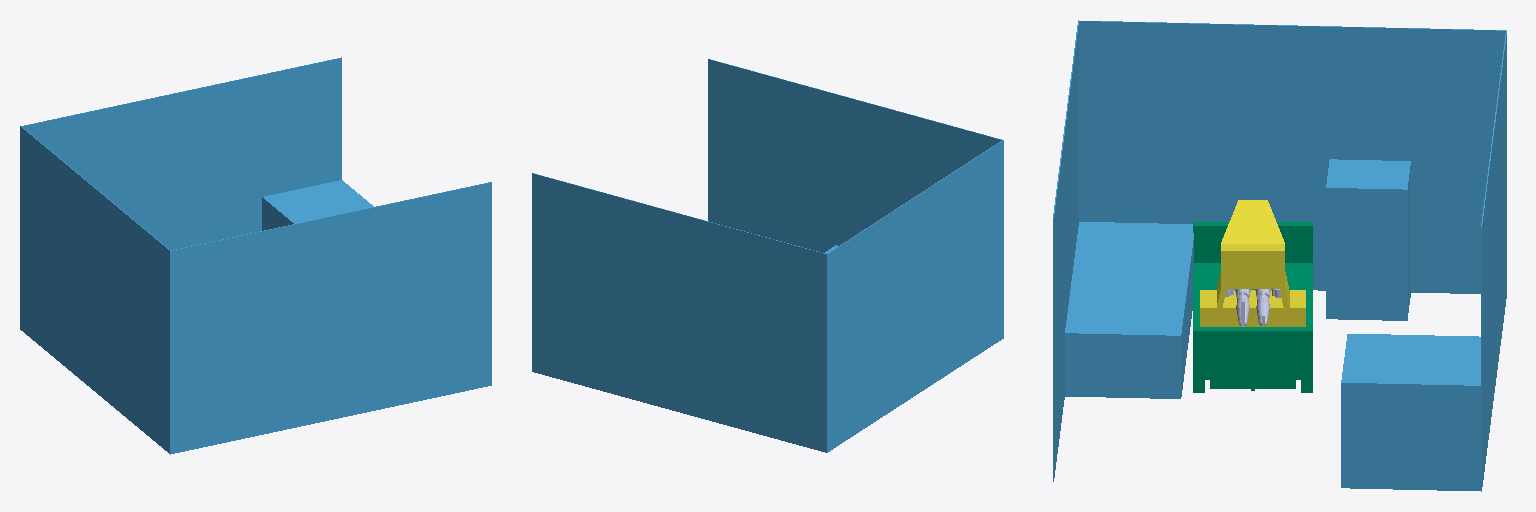
--- Facts derived from the render (not from the file) ---
The picture shows the robot from 3 angles, left to right: view 1: azimuth 30°, elevation 25°; view 2: azimuth 150°, elevation 25°; view 3: azimuth 270°, elevation 25°; orthographic projection.
Model bed_and_environment_henry_tray with 33 links and 32 joints (25 revolute, 4 prismatic, 3 fixed), rooted at autobed/base_link, posed every joint at zero.
Links seen in each view (by area): view 1: autobed/wall_link; view 2: autobed/wall_link; view 3: autobed/wall_link, autobed/bed_frame_link, autobed/leg_rest_upper.
Boxes of the visible links, x1,y1,x2,y2 form: autobed/wall_link: (20,57,491,454); autobed/wall_link: (532,59,1003,452); autobed/wall_link: (1053,20,1506,491); autobed/bed_frame_link: (1193,222,1312,392); autobed/leg_rest_upper: (1200,200,1305,326).
Size in the robot's own frame: 4.2 by 3.9 by 2.5 metres.
Meshes: 23 distinct files referenced, 18 mesh visuals loaded (18 binary STL); not drawn: 5 (reference not matched to a file when rendering).

robot.urdf — bed_and_environment_henry_tray:
<?xml version="1.0"?>
<robot
  name="bed_and_environment_henry_tray">
  <link
   name="autobed/base_link">
    <inertial>
      <origin
        xyz="1.07 3.94840580504828E-16 0.0837923121940762"
        rpy="0 0 0" />
      <mass
        value="6.1860172808288" />
      <inertia
        ixx="1.21978721906848"
        ixy="2.22044604925031E-15"
        ixz="-1.78284289885571E-15"
        iyy="7.15036992783298"
        iyz="-7.76907347784197E-16"
        izz="8.24641740321532" />
    </inertial>
    <visual>
      <origin
        xyz="0 0 0"
        rpy="0 0 0" />
      <geometry>
        <mesh
          filename="package://hrl_base_selection/urdf/bed_and_environment_henry_tray/meshes/base_link.STL" />
      </geometry>
    </visual>
    <collision>
      <origin
        xyz="0 0 0"
        rpy="0 0 0" />
      <geometry>
        <mesh
          filename="package://hrl_base_selection/urdf/bed_and_environment_henry_tray/meshes/base_link.STL" />
      </geometry>
    </collision>
  </link>
    <link
   name="autobed/wall_link">
    <inertial>
      <origin
        xyz="1.85973617610096 0.322876413955559 0.506156564666783"
        rpy="0 0 0" />
      <mass
        value="3480.34879229199" />
      <inertia
        ixx="6193.4907032472"
        ixy="3253.06972401852"
        ixz="-11.5632809249146"
        iyy="7114.12294656335"
        iyz="386.100445501856"
        izz="12101.3286461396" />
    </inertial>
    <visual>
      <origin
        xyz="0 0 0"
        rpy="0 0 0" />
      <geometry>
        <mesh
          filename="package://hrl_base_selection/urdf/bed_and_environment_henry_tray/meshes/wall_link.STL" />
      </geometry>
    </visual>
    <collision>
      <origin
        xyz="0 0 0"
        rpy="0 0 0" />
      <geometry>
        <mesh
          filename="package://hrl_base_selection/urdf/bed_and_environment_henry_tray/meshes/wall_link.STL" />
      </geometry>
    </collision>
  </link>
  <joint
   name="autobed/origin_wall_joint"
    type="fixed">
    <origin
      xyz="-0.12155 -0.0043316 0"
      rpy="0 0 -0.053897" />
    <parent
      link="autobed/base_link" />
    <child
      link="autobed/wall_link" />
    <axis
      xyz="0 0 0" />
  </joint>
  <link
   name="autobed/bed_frame_link">
    <inertial>
      <origin
        xyz="1.20574977089702 -0.00197319632794563 0.010463658046454"
        rpy="0 0 0" />
      <mass
        value="298.525793737685" />
      <inertia
        ixx="25.3079805393988"
        ixy="0.124705215046845"
        ixz="-6.18752707469867"
        iyy="161.196265779885"
        iyz="0.0978345240222597"
        izz="178.196491872743" />
    </inertial>
    <visual>
      <origin
        xyz="0 0 0"
        rpy="0 0 0" />
      <geometry>
        <mesh
          filename="package://hrl_base_selection/urdf/bed_and_environment_henry_tray/meshes/bed_frame_expanded_link.STL" />
      </geometry>
    </visual>
    <collision>
      <origin
        xyz="0 0 0"
        rpy="0 0 0" />
      <geometry>
        <mesh
          filename="package://hrl_base_selection/urdf/bed_and_environment_henry_tray/meshes/bed_frame_expanded_link.STL" />
      </geometry>
    </collision>
  </link>
  <joint
   name="autobed/tele_legs_joint"
    type="prismatic">
    <origin
      xyz="-0.0400000000000005 0 0.320000000000001"
      rpy="0 0 0" />
    <parent
      link="autobed/base_link" />
    <child
      link="autobed/bed_frame_link" />
    <axis
      xyz="0 0 1" />
    <limit
      lower="-1"
      upper="1"
      effort="0"
      velocity="0" />
  </joint>
  <link
   name="autobed/leg_rest_upper">
    <inertial>
      <origin
        xyz="0.184999999999998 0.10500000000001 6.79804630482359E-16"
        rpy="0 0 0" />
      <mass
        value="71.0955000000001" />
      <inertia
        ixx="5.22152012812501"
        ixy="-3.21389401302034E-17"
        ixz="-3.22023131917487E-17"
        iyy="5.77132532812501"
        iyz="-2.87322532068486E-15"
        izz="1.072357125" />
    </inertial>
    <visual>
      <origin
        xyz="0 0 0"
        rpy="0 0 0" />
      <geometry>
        <mesh
          filename="package://hrl_base_selection/urdf/bed_and_environment_henry_tray/meshes/leg_rest_upper.STL" />
      </geometry>
    </visual>
    <collision>
      <origin
        xyz="0 0 0"
        rpy="0 0 0" />
      <geometry>
        <mesh
          filename="package://hrl_base_selection/urdf/bed_and_environment_henry_tray/meshes/leg_rest_upper.STL" />
      </geometry>
    </collision>
  </link>
  <joint
   name="autobed/leg_rest_upper_hinge"
    type="revolute">
    <origin
      xyz="1.075 0 0"
      rpy="1.5708 -1.8438E-16 7.6543E-16" />
    <parent
      link="autobed/bed_frame_link" />
    <child
      link="autobed/leg_rest_upper" />
    <axis
      xyz="0 0 1" />
    <limit
      lower="-2"
      upper="2"
      effort="0"
      velocity="0" />
  </joint>
  <link
   name="autobed/leg_rest_lower">
    <inertial>
      <origin
        xyz="0.325000000000004 0.104999999999987 -1.38760699713425E-16"
        rpy="0 0 0" />
      <mass
        value="124.8975" />
      <inertia
        ixx="9.172940765625"
        ixy="-4.25925024767052E-17"
        ixz="-8.25969319809873E-16"
        iyy="13.111375265625"
        iyz="2.10674154540826E-16"
        izz="4.856431125" />
    </inertial>
    <visual>
      <origin
        xyz="0 0 0"
        rpy="0 0 0" />
      <geometry>
        <mesh
          filename="package://hrl_base_selection/urdf/bed_and_environment_henry_tray/meshes/leg_rest_lower.STL" />
      </geometry>
    </visual>
    <collision>
      <origin
        xyz="0 0 0"
        rpy="0 0 0" />
      <geometry>
        <mesh
          filename="package://hrl_base_selection/urdf/bed_and_environment_henry_tray/meshes/leg_rest_lower.STL" />
      </geometry>
    </collision>
  </link>
  <joint
   name="autobed/leg_rest_lower_hinge"
    type="revolute">
    <origin
      xyz="0.37 0 0"
      rpy="8.4655E-16 -2.4744E-16 -1.8316E-16" />
    <parent
      link="autobed/leg_rest_upper" />
    <child
      link="autobed/leg_rest_lower" />
    <axis
      xyz="0 0 -1" />
    <limit
      lower="-2"
      upper="2"
      effort="0"
      velocity="0" />
  </joint>
  <link
   name="autobed/head_rest_link">
    <inertial>
      <origin
        xyz="0.338540021639504 -0.102807900235519 0.0331726512276706"
        rpy="0 0 0" />
      <mass
        value="158.265573279578" />
      <inertia
        ixx="13.8116841883572"
        ixy="0.366851813056848"
        ixz="-0.640983438566653"
        iyy="18.5647228773414"
        iyz="-0.857921499431992"
        izz="7.19318513198363" />
    </inertial>
    <visual>
      <origin
        xyz="0 0 0"
        rpy="0 0 0" />
      <geometry>
        <mesh
          filename="package://hrl_base_selection/urdf/bed_and_environment_henry_tray/meshes/head_rest_link.STL" />
      </geometry>
    </visual>
    <collision>
      <origin
        xyz="0 0 0"
        rpy="0 0 0" />
      <geometry>
        <mesh
          filename="package://hrl_base_selection/urdf/bed_and_environment_henry_tray/meshes/head_rest_link.STL" />
      </geometry>
    </collision>
  </link>
  <joint
   name="autobed/head_rest_hinge"
    type="revolute">
    <origin
      xyz="0.795 0 0.21"
      rpy="1.5708 0 -3.1416" />
    <parent
      link="autobed/bed_frame_link" />
    <child
      link="autobed/head_rest_link" />
    <axis
      xyz="0 0 1" />
    <limit
      lower="-2"
      upper="2"
      effort="0"
      velocity="0" />
  </joint>
  <link
    name="autobed/neck_rotated_to_worldframe_link">
  </link>
  <joint
    name="autobed/headrest_bed_to_worldframe_joint"
    type="revolute">
    <origin
      xyz="0.25949 0.1 0"
      rpy="0. 0. 0." />
    <!--<origin-->
      <!--xyz="0.40949 0.05 0"-->
      <!--rpy="0. 0. 0." />-->
    <parent
      link="autobed/head_rest_link" />
    <child
      link="autobed/neck_rotated_to_worldframe_link" />
    <axis
      xyz="0 0 1" />
    <limit
      lower="-2"
      upper="2"
      effort="0"
      velocity="0" />
  </joint>
  <link
    name="autobed/neck_updown_worldframe_translation_link">
  </link>
  <joint
    name="autobed/bed_neck_worldframe_updown_joint"
    type="prismatic">
    <origin
      xyz="0.0 0.0 0"
      rpy="0.0 0.0 0.0" />
    <parent
      link="autobed/neck_rotated_to_worldframe_link" />
    <child
      link="autobed/neck_updown_worldframe_translation_link" />
    <axis
      xyz="-1 0 0" />
    <limit
      lower="-2"
      upper="2"
      effort="0"
      velocity="0" />
  </joint>
  <link
    name="autobed/neck_rotated_to_bedframe_link">
  </link>
  <joint
    name="autobed/bed_neck_to_bedframe_joint"
    type="revolute">
    <origin
      xyz="0.0 0.0 0"
      rpy="0. 0. 0." />
    <parent
      link="autobed/neck_updown_worldframe_translation_link" />
    <child
      link="autobed/neck_rotated_to_bedframe_link" />
    <axis
      xyz="0 0 1" />
    <limit
      lower="-2"
      upper="2"
      effort="0"
      velocity="0" />
  </joint>
  <link
    name="autobed/neck_updown_bedframe_translation_link">
  </link>
  <joint
    name="autobed/bed_neck_base_updown_bedframe_joint"
    type="prismatic">
    <origin
      xyz="0.0 0.0 0"
      rpy="0. 0. 0." />
    <parent
      link="autobed/neck_rotated_to_bedframe_link" />
    <child
      link="autobed/neck_updown_bedframe_translation_link" />
    <axis
      xyz="-1 0 0" />
    <limit
      lower="-2"
      upper="2"
      effort="0"
      velocity="0" />
  </joint>
  <link
    name="autobed/neck_base_link">
  </link>
  <joint
    name="autobed/bed_neck_base_leftright_joint"
    type="prismatic">
    <origin
      xyz="0 0 0"
      rpy="0 3.14159 0" />
    <parent
      link="autobed/neck_updown_bedframe_translation_link" />
    <child
      link="autobed/neck_base_link" />
    <axis
      xyz="0 0 -1" />
    <limit
      lower="-2"
      upper="2"
      effort="0"
      velocity="0" />
  </joint>
  <link
    name="autobed/neck_twist_link">
  </link>
  <joint
    name="autobed/neck_twist_joint"
    type="revolute">
    <origin
      xyz="0.0 0.0 0"
      rpy="0. 0. 0." />
    <parent
      link="autobed/neck_base_link" />
    <child
      link="autobed/neck_twist_link" />
    <axis
      xyz="1 0 0" />
    <limit
      lower="-2"
      upper="2"
      effort="0"
      velocity="0" />
  </joint>
  <link
    name="autobed/neck_tilt_link">
  </link>
  <joint
    name="autobed/neck_tilt_joint"
    type="revolute">
    <origin
      xyz="0.0 0.0 0"
      rpy="0. 0. 0." />
    <parent
      link="autobed/neck_twist_link" />
    <child
      link="autobed/neck_tilt_link" />
    <axis
      xyz="0 0 -1" />
    <limit
      lower="-2"
      upper="2"
      effort="0"
      velocity="0" />
  </joint>
  <link
    name="autobed/neck_link">
    <visual>
      <origin
        xyz="0 0 0"
        rpy="0 0 0" />
      <geometry>
        <mesh
          filename="package://hrl_base_selection/urdf/bed_and_environment_henry_tray/meshes/neck_link.STL" />
      </geometry>
      <material
        name="">
        <color
          rgba="0.792156862745098 0.819607843137255 0.933333333333333 1" />
      </material>
    </visual>
    <collision>
      <origin
        xyz="0 0 0"
        rpy="0 0 0" />
      <geometry>
        <mesh
          filename="package://hrl_base_selection/urdf/bed_and_environment_henry_tray/meshes/neck_link.STL" />
      </geometry>
    </collision>
  </link>
  <joint
    name="autobed/neck_to_neck_top_joint"
    type="fixed">
    <origin
      xyz="-0.07239 0 0"
      rpy="0 0 0" />
    <parent
      link="autobed/neck_tilt_link" />
    <child
      link="autobed/neck_link" />
  </joint>
  <link
    name="autobed/neck_top_rotated_link">
  </link>
  <joint
    name="autobed/neck_rotation_fixed_joint"
    type="fixed">
    <origin
      xyz="0 0 0"
      rpy="-1.570796 0 1.570796" />
    <parent
      link="autobed/neck_link" />
    <child
      link="autobed/neck_top_rotated_link" />
    <axis
      xyz="0 0 1" />
    <limit
      lower="-2"
      upper="2"
      effort="0"
      velocity="0" />
  </joint>
  <link
    name="autobed/head_roty_link">
  </link>
  <joint
    name="autobed/neck_head_roty_joint"
    type="revolute">
    <origin
      xyz="0.0154 0 0.07779"
      rpy="0 0 0" />
    <parent
      link="autobed/neck_top_rotated_link" />
    <child
      link="autobed/head_roty_link" />
    <axis
      xyz="0 1 0" />
    <limit
      lower="-2"
      upper="2"
      effort="0"
      velocity="0" />
  </joint>
  <link
    name="autobed/head_rotz_link">
  </link>
  <joint
    name="autobed/neck_head_rotz_joint"
    type="revolute">
    <origin
      xyz="0 0 0"
      rpy="0 0 0" />
    <parent
      link="autobed/head_roty_link" />
    <child
      link="autobed/head_rotz_link" />
    <axis
      xyz="0 0 1" />
    <limit
      lower="-2"
      upper="2"
      effort="0"
      velocity="0" />
  </joint>

  <link
    name="autobed/head_link">
    <visual>
      <origin
        xyz="0 0 0"
        rpy="0 0 0" />
      <geometry>
        <mesh
          filename="package://hrl_base_selection/urdf/bed_and_environment_henry_tray/meshes/head_link.STL" />
      </geometry>
      <material
        name="">
        <color
          rgba="0.792156862745098 0.819607843137255 0.933333333333333 1" />
      </material>
    </visual>
    <collision>
      <origin
        xyz="0 0 0"
        rpy="0 0 0" />
      <geometry>
        <mesh
          filename="package://hrl_base_selection/urdf/bed_and_environment_henry_tray/meshes/head_link.STL" />
      </geometry>
    </collision>
  </link>
  <joint
    name="autobed/neck_head_rotx_joint"
    type="revolute">
    <origin
      xyz="0 0 0"
      rpy="0 0 0" />
    <parent
      link="autobed/head_rotz_link" />
    <child
      link="autobed/head_link" />
    <axis
      xyz="1 0 0" />
    <limit
      lower="-2"
      upper="2"
      effort="0"
      velocity="0" />
  </joint>
  <link
    name="autobed/upper_body_link">
    <visual>
      <origin
        xyz="0 0 0"
        rpy="0 0 0" />
      <geometry>
        <mesh
          filename="package://hrl_base_selection/urdf/bed_and_environment_henry_tray/meshes/upper_body_link.STL" />
      </geometry>
      <material
        name="">
        <color
          rgba="0.792156862745098 0.819607843137255 0.933333333333333 1" />
      </material>
    </visual>
    <collision>
      <origin
        xyz="0 0 0"
        rpy="0 0 0" />
      <geometry>
        <mesh
          filename="package://hrl_base_selection/urdf/bed_and_environment_henry_tray/meshes/upper_body_link.STL" />
      </geometry>
    </collision>
  </link>
  <joint
    name="autobed/neck_body_joint"
    type="revolute">
    <origin
      xyz="0.00 0 0"
      rpy="0 0 0" />
    <parent
      link="autobed/neck_base_link" />
    <child
      link="autobed/upper_body_link" />
    <axis
      xyz="0 0 -1" />
    <limit
      lower="-2"
      upper="2"
      effort="0"
      velocity="0" />
  </joint>
  <link
    name="autobed/mid_body_link">
    <visual>
      <origin
        xyz="0 0 0"
        rpy="0 0 0" />
      <geometry>
        <mesh
          filename="package://hrl_base_selection/urdf/bed_and_environment_henry_tray/meshes/mid_body_link.STL" />
      </geometry>
      <material
        name="">
        <color
          rgba="0.792156862745098 0.819607843137255 0.933333333333333 1" />
      </material>
    </visual>
    <collision>
      <origin
        xyz="0 0 0"
        rpy="0 0 0" />
      <geometry>
        <mesh
          filename="package://hrl_base_selection/urdf/bed_and_environment_henry_tray/meshes/mid_body_link.STL" />
      </geometry>
    </collision>
  </link>
  <joint
    name="autobed/upper_mid_body_joint"
    type="revolute">
    <origin
      xyz="0.35052 0 0"
      rpy="0 0 0" />
    <parent
      link="autobed/upper_body_link" />
    <child
      link="autobed/mid_body_link" />
    <axis
      xyz="0 0 1" />
    <limit
      lower="-2"
      upper="2"
      effort="0"
      velocity="0" />
  </joint>
  <link
    name="autobed/lower_body_link">
    <visual>
      <origin
        xyz="0 0 0"
        rpy="0 0 0" />
      <geometry>
        <mesh
          filename="package://hrl_base_selection/urdf/bed_and_environment_henry_tray/meshes/lower_body_link.STL" />
      </geometry>
      <material
        name="">
        <color
          rgba="0.792156862745098 0.819607843137255 0.933333333333333 1" />
      </material>
    </visual>
    <collision>
      <origin
        xyz="0 0 0"
        rpy="0 0 0" />
      <geometry>
        <mesh
          filename="package://hrl_base_selection/urdf/bed_and_environment_henry_tray/meshes/lower_body_link.STL" />
      </geometry>
    </collision>
  </link>
  <joint
    name="autobed/mid_lower_body_joint"
    type="revolute">
    <origin
      xyz="0.15113 0 0"
      rpy="0 0 0" />
    <parent
      link="autobed/mid_body_link" />
    <child
      link="autobed/lower_body_link" />
    <axis
      xyz="0 0 1" />
    <limit
      lower="-2"
      upper="2"
      effort="0"
      velocity="0" />
  </joint>
  <link
    name="autobed/quad_left_link">
    <visual>
      <origin
        xyz="0 0 0"
        rpy="0 0 0" />
      <geometry>
        <mesh
          filename="package://hrl_base_selection/urdf/bed_and_environment_henry_tray/meshes/quad_left_link.STL" />
      </geometry>
      <material
        name="">
        <color
          rgba="0.792156862745098 0.819607843137255 0.933333333333333 1" />
      </material>
    </visual>
    <collision>
      <origin
        xyz="0 0 0"
        rpy="0 0 0" />
      <geometry>
        <mesh
          filename="package://hrl_base_selection/urdf/bed_and_environment_henry_tray/meshes/quad_left_link.STL" />
      </geometry>
    </collision>
  </link>
  <joint
    name="autobed/body_quad_left_joint"
    type="revolute">
    <origin
      xyz="0.05207 0 -0.08636"
      rpy="0 0 -.25" />
    <parent
      link="autobed/lower_body_link" />
    <child
      link="autobed/quad_left_link" />
    <axis
      xyz="0 0 1" />
    <limit
      lower="-3."
      upper="3."
      effort="0"
      velocity="0" />
  </joint>
  <link
    name="autobed/calf_left_link">
    <visual>
      <origin
        xyz="0 0 0"
        rpy="0 0 0" />
      <geometry>
        <mesh
          filename="package://hrl_base_selection/urdf/bed_and_environment_henry_tray/meshes/calf_left_link.STL" />
      </geometry>
      <material
        name="">
        <color
          rgba="0.792156862745098 0.819607843137255 0.933333333333333 1" />
      </material>
    </visual>
    <collision>
      <origin
        xyz="0 0 0"
        rpy="0 0 0" />
      <geometry>
        <mesh
          filename="package://hrl_base_selection/urdf/bed_and_environment_henry_tray/meshes/calf_left_link.STL" />
      </geometry>
    </collision>
  </link>
  <joint
    name="autobed/quad_calf_left_joint"
    type="revolute">
    <origin
      xyz="0.41218 0.11044 0"
      rpy="3.14159 0 3.43" />
    <parent
      link="autobed/quad_left_link" />
    <child
      link="autobed/calf_left_link" />
    <axis
      xyz="0 0 1" />
    <limit
      lower="-3."
      upper="3."
      effort="0"
      velocity="0" />
  </joint>
  <link
    name="autobed/foot_left_link">
    <visual>
      <origin
        xyz="0 0 0"
        rpy="0 0 0" />
      <geometry>
        <mesh
          filename="package://hrl_base_selection/urdf/bed_and_environment_henry_tray/meshes/foot_left_link.STL" />
      </geometry>
      <material
        name="">
        <color
          rgba="0.792156862745098 0.819607843137255 0.933333333333333 1" />
      </material>
    </visual>
    <collision>
      <origin
        xyz="0 0 0"
        rpy="0 0 0" />
      <geometry>
        <mesh
          filename="package://hrl_base_selection/urdf/bed_and_environment_henry_tray/meshes/foot_left_link.STL" />
      </geometry>
    </collision>
  </link>
  <joint
    name="autobed/calf_foot_left_joint"
    type="revolute">
    <origin
      xyz="-0.41279 -0.03188 0"
      rpy="0 0 0.09" />
    <parent
      link="autobed/calf_left_link" />
    <child
      link="autobed/foot_left_link" />
    <axis
      xyz="0 0 1" />
    <limit
      lower="-3."
      upper="3."
      effort="0"
      velocity="0" />
  </joint>
  <link
    name="autobed/quad_right_link">
    <visual>
      <origin
        xyz="0 0 0"
        rpy="0 0 0" />
      <geometry>
        <mesh
          filename="package://hrl_base_selection/urdf/bed_and_environment_henry_tray/meshes/quad_right_link.STL" />
      </geometry>
      <material
        name="">
        <color
          rgba="0.792156862745098 0.819607843137255 0.933333333333333 1" />
      </material>
    </visual>
    <collision>
      <origin
        xyz="0 0 0"
        rpy="0 0 0" />
      <geometry>
        <mesh
          filename="package://hrl_base_selection/urdf/bed_and_environment_henry_tray/meshes/quad_right_link.STL" />
      </geometry>
    </collision>
  </link>
  <joint
    name="autobed/body_quad_right_joint"
    type="revolute">
    <origin
      xyz="0.05207 0 0.08636"
      rpy="0 0 -.25" />
    <parent
      link="autobed/lower_body_link" />
    <child
      link="autobed/quad_right_link" />
    <axis
      xyz="0 0 1" />
    <limit
      lower="-3"
      upper="3"
      effort="0"
      velocity="0" />
  </joint>
  <link
    name="autobed/calf_right_link">
    <visual>
      <origin
        xyz="0 0 0"
        rpy="0 0 0" />
      <geometry>
        <mesh
          filename="package://hrl_base_selection/urdf/bed_and_environment_henry_tray/meshes/calf_right_link.STL" />
      </geometry>
      <material
        name="">
        <color
          rgba="0.792156862745098 0.819607843137255 0.933333333333333 1" />
      </material>
    </visual>
    <collision>
      <origin
        xyz="0 0 0"
        rpy="0 0 0" />
      <geometry>
        <mesh
          filename="package://hrl_base_selection/urdf/bed_and_environment_henry_tray/meshes/calf_right_link.STL" />
      </geometry>
    </collision>
  </link>
  <joint
    name="autobed/quad_calf_right_joint"
    type="revolute">
    <origin
      xyz="0.41218 0.11044 0"
      rpy="3.14159 0 3.43" />
    <parent
      link="autobed/quad_right_link" />
    <child
      link="autobed/calf_right_link" />
    <axis
      xyz="0 0 1" />
    <limit
      lower="-3"
      upper="3"
      effort="0"
      velocity="0" />
  </joint>
  <link
    name="autobed/foot_right_link">
    <visual>
      <origin
        xyz="0 0 0"
        rpy="0 0 0" />
      <geometry>
        <mesh
          filename="package://hrl_base_selection/urdf/bed_and_environment_henry_tray/meshes/foot_right_link.STL" />
      </geometry>
      <material
        name="">
        <color
          rgba="0.792156862745098 0.819607843137255 0.933333333333333 1" />
      </material>
    </visual>
    <collision>
      <origin
        xyz="0 0 0"
        rpy="0 0 0" />
      <geometry>
        <mesh
          filename="package://hrl_base_selection/urdf/bed_and_environment_henry_tray/meshes/foot_right_link.STL" />
      </geometry>
    </collision>
  </link>
  <joint
    name="autobed/calf_foot_right_joint"
    type="revolute">
    <origin
      xyz="-0.41279 -0.03188 0"
      rpy="0 0 0.09" />
    <parent
      link="autobed/calf_right_link" />
    <child
      link="autobed/foot_right_link" />
    <axis
      xyz="0 0 1" />
    <limit
      lower="-3"
      upper="3"
      effort="0"
      velocity="0" />
  </joint>
  <link
    name="autobed/arm_left_link">
    <visual>
      <origin
        xyz="0 0 0"
        rpy="0 0 0" />
      <geometry>
        <mesh
          filename="package://hrl_base_selection/urdf/bed_and_environment_henry_tray/meshes/arm_left_link.STL" />
      </geometry>
      <material
        name="">
        <color
          rgba="0.792156862745098 0.819607843137255 0.933333333333333 1" />
      </material>
    </visual>
    <collision>
      <origin
        xyz="0 0 0"
        rpy="0 0 0" />
      <geometry>
        <mesh
          filename="package://hrl_base_selection/urdf/bed_and_environment_henry_tray/meshes/arm_left_link.STL" />
      </geometry>
    </collision>
  </link>
  <joint
    name="autobed/body_arm_left_joint"
    type="revolute">
    <origin
      xyz="0.09652 0 -0.17526"
      rpy="0 0 0" />
    <parent
      link="autobed/upper_body_link" />
    <child
      link="autobed/arm_left_link" />
    <axis
      xyz="0 0 1" />
    <limit
      lower="-3"
      upper="3"
      effort="0"
      velocity="0" />
  </joint>
  <link
    name="autobed/forearm_left_link">
    <visual>
      <origin
        xyz="0 0 0"
        rpy="0 0 0" />
      <geometry>
        <mesh
          filename="package://hrl_base_selection/urdf/bed_and_environment_henry_tray/meshes/forearm_left_link.STL" />
      </geometry>
      <material
        name="">
        <color
          rgba="0.792156862745098 0.819607843137255 0.933333333333333 1" />
      </material>
    </visual>
    <collision>
      <origin
        xyz="0 0 0"
        rpy="0 0 0" />
      <geometry>
        <mesh
          filename="package://hrl_base_selection/urdf/bed_and_environment_henry_tray/meshes/forearm_left_link.STL" />
      </geometry>
    </collision>
  </link>
  <joint
    name="autobed/arm_forearm_left_joint"
    type="revolute">
    <origin
      xyz="0.28174 -0.0106 -0.04953"
      rpy="0 0 0" />
    <parent
      link="autobed/arm_left_link" />
    <child
      link="autobed/forearm_left_link" />
    <axis
      xyz="0 0 1" />
    <limit
      lower="-3"
      upper="3"
      effort="0"
      velocity="0" />
  </joint>
  <link
    name="autobed/hand_left_link">
    <visual>
      <origin
        xyz="0 0 0"
        rpy="0 0 0" />
      <geometry>
        <mesh
          filename="package://hrl_base_selection/urdf/bed_and_environment_henry_tray/meshes/hand_left_link.STL" />
      </geometry>
      <material
        name="">
        <color
          rgba="0.792156862745098 0.819607843137255 0.933333333333333 1" />
      </material>
    </visual>
    <collision>
      <origin
        xyz="0 0 0"
        rpy="0 0 0" />
      <geometry>
        <mesh
          filename="package://hrl_base_selection/urdf/bed_and_environment_henry_tray/meshes/hand_left_link.STL" />
      </geometry>
    </collision>
  </link>
  <joint
    name="autobed/forearm_hand_left_joint"
    type="revolute">
    <origin
      xyz="0.25146 0 0"
      rpy="0 0 0" />
    <parent
      link="autobed/forearm_left_link" />
    <child
      link="autobed/hand_left_link" />
    <axis
      xyz="0 0 1" />
    <limit
      lower="-3"
      upper="3"
      effort="0"
      velocity="0" />
  </joint>
  <link
    name="autobed/arm_right_link">
    <visual>
      <origin
        xyz="0 0 0"
        rpy="0 0 0" />
      <geometry>
        <mesh
          filename="package://hrl_base_selection/urdf/bed_and_environment_henry_tray/meshes/arm_right_link.STL" />
      </geometry>
      <material
        name="">
        <color
          rgba="0.792156862745098 0.819607843137255 0.933333333333333 1" />
      </material>
    </visual>
    <collision>
      <origin
        xyz="0 0 0"
        rpy="0 0 0" />
      <geometry>
        <mesh
          filename="package://hrl_base_selection/urdf/bed_and_environment_henry_tray/meshes/arm_right_link.STL" />
      </geometry>
    </collision>
  </link>
  <joint
    name="autobed/body_arm_right_joint"
    type="revolute">
    <origin
      xyz="0.09652 0 0.17526"
      rpy="0 0 0" />
    <parent
      link="autobed/upper_body_link" />
    <child
      link="autobed/arm_right_link" />
    <axis
      xyz="0 0 1" />
    <limit
      lower="-3"
      upper="3"
      effort="0"
      velocity="0" />
  </joint>
  <link
    name="autobed/forearm_right_link">
    <visual>
      <origin
        xyz="0 0 0"
        rpy="0 0 0" />
      <geometry>
        <mesh
          filename="package://hrl_base_selection/urdf/bed_and_environment_henry_tray/meshes/forearm_right_link.STL" />
      </geometry>
      <material
        name="">
        <color
          rgba="0.792156862745098 0.819607843137255 0.933333333333333 1" />
      </material>
    </visual>
    <collision>
      <origin
        xyz="0 0 0"
        rpy="0 0 0" />
      <geometry>
        <mesh
          filename="package://hrl_base_selection/urdf/bed_and_environment_henry_tray/meshes/forearm_right_link.STL" />
      </geometry>
    </collision>
  </link>
  <joint
    name="autobed/arm_forearm_right_joint"
    type="revolute">
    <origin
      xyz="0.28194 0 0.04953"
      rpy="0 0 0" />
    <parent
      link="autobed/arm_right_link" />
    <child
      link="autobed/forearm_right_link" />
    <axis
      xyz="0 0 1" />
    <limit
      lower="-3"
      upper="3"
      effort="0"
      velocity="0" />
  </joint>
  <link
    name="autobed/hand_right_link">
    <visual>
      <origin
        xyz="0 0 0"
        rpy="0 0 0" />
      <geometry>
        <mesh
          filename="package://hrl_base_selection/urdf/bed_and_environment_henry_tray/meshes/hand_right_link.STL" />
      </geometry>
      <material
        name="">
        <color
          rgba="0.792156862745098 0.819607843137255 0.933333333333333 1" />
      </material>
    </visual>
    <collision>
      <origin
        xyz="0 0 0"
        rpy="0 0 0" />
      <geometry>
        <mesh
          filename="package://hrl_base_selection/urdf/bed_and_environment_henry_tray/meshes/hand_right_link.STL" />
      </geometry>
    </collision>
  </link>
  <joint
    name="autobed/forearm_hand_right_joint"
    type="revolute">
    <origin
      xyz="0.25146 0 0"
      rpy="0 0 0" />
    <parent
      link="autobed/forearm_right_link" />
    <child
      link="autobed/hand_right_link" />
    <axis
      xyz="0 0 1" />
    <limit
      lower="-3"
      upper="3"
      effort="0"
      velocity="0" />
  </joint>

</robot>
